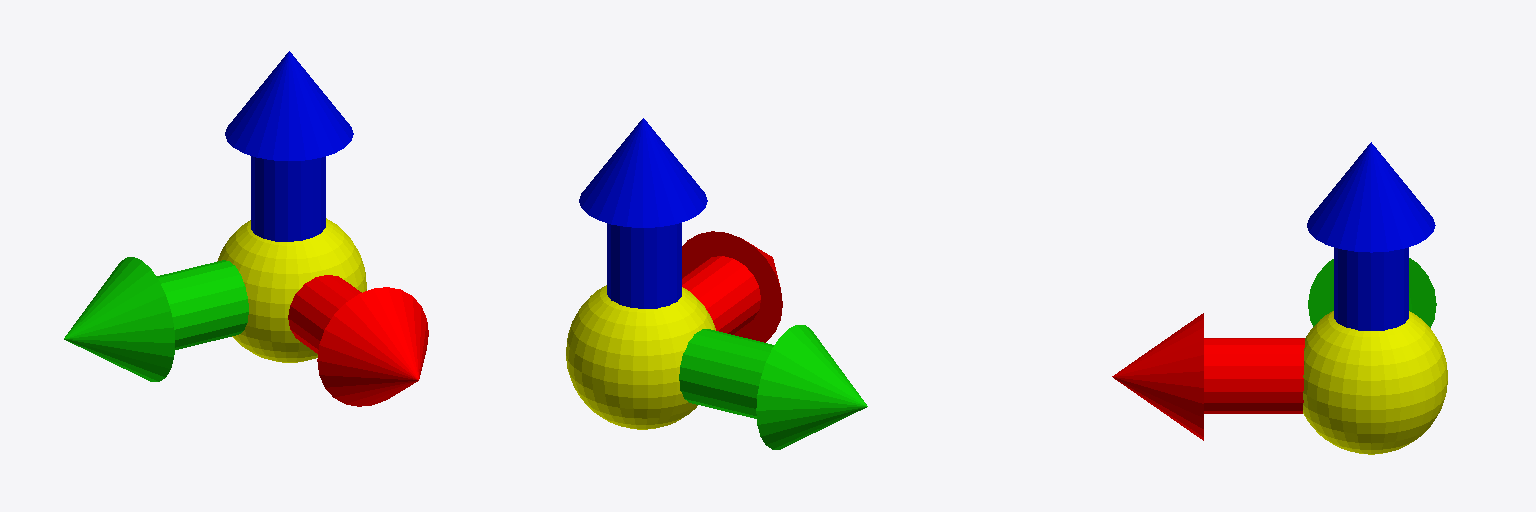
The model's file is axes.obj.
3 views of the same model, side by side, from view 1: azimuth 30°, elevation 25°; view 2: azimuth 150°, elevation 25°; view 3: azimuth 270°, elevation 25° (orthographic).
Parts seen in each view (by area): view 1: Cone002, Sphere001, Cone003, Cone001, Cylinder001, Cylinder003, Cylinder002; view 2: Sphere001, Cone003, Cone001, Cylinder003, Cylinder001, Cone002, Cylinder002; view 3: Sphere001, Cone001, Cylinder002, Cone002, Cylinder001, Cone003.
Boxes of the visible parts, <box> form: Cone002: <box>317,287,428,406</box>; Sphere001: <box>217,218,366,362</box>; Cone003: <box>64,257,174,381</box>; Cone001: <box>225,51,353,160</box>; Cylinder001: <box>251,156,325,241</box>; Cylinder003: <box>156,260,248,349</box>; Cylinder002: <box>288,275,361,353</box>; Sphere001: <box>566,285,715,429</box>; Cone003: <box>756,325,867,449</box>; Cone001: <box>579,118,707,227</box>; Cylinder003: <box>679,329,773,418</box>; Cylinder001: <box>607,223,681,308</box>; Cone002: <box>682,231,782,342</box>; Cylinder002: <box>682,256,760,334</box>; Sphere001: <box>1303,311,1447,454</box>; Cone001: <box>1307,142,1435,252</box>; Cylinder002: <box>1204,338,1304,413</box>; Cone002: <box>1112,313,1203,440</box>; Cylinder001: <box>1334,247,1408,330</box>; Cone003: <box>1308,258,1436,327</box>.
Bounding box in the file's own units: 25.63 × 25.54 × 25.52.